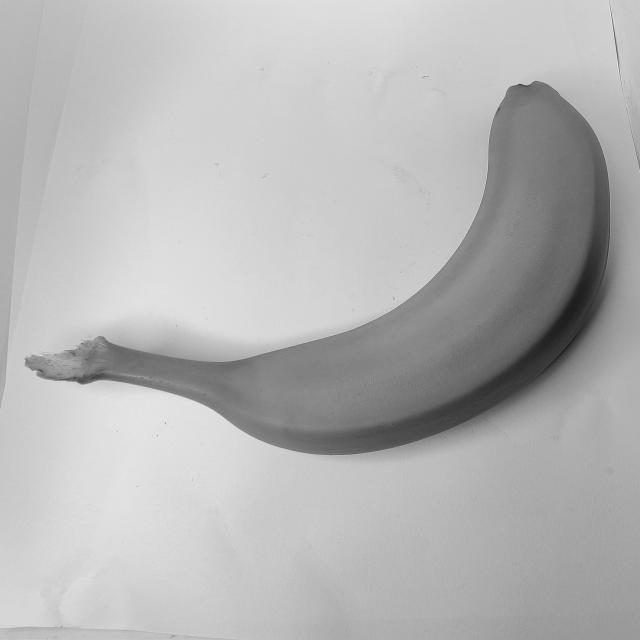Raw: (21, 48, 640, 486)
